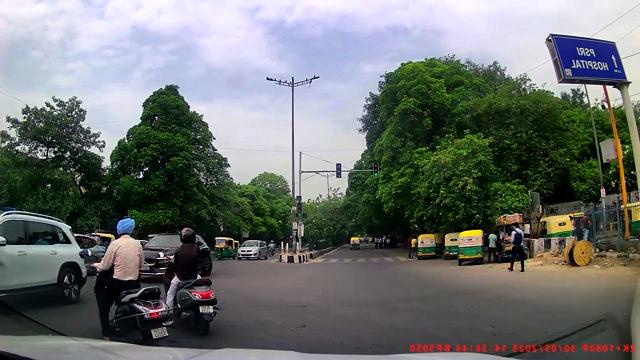motorcycle_with_helmet: (92, 216, 172, 344), (165, 225, 218, 334)
